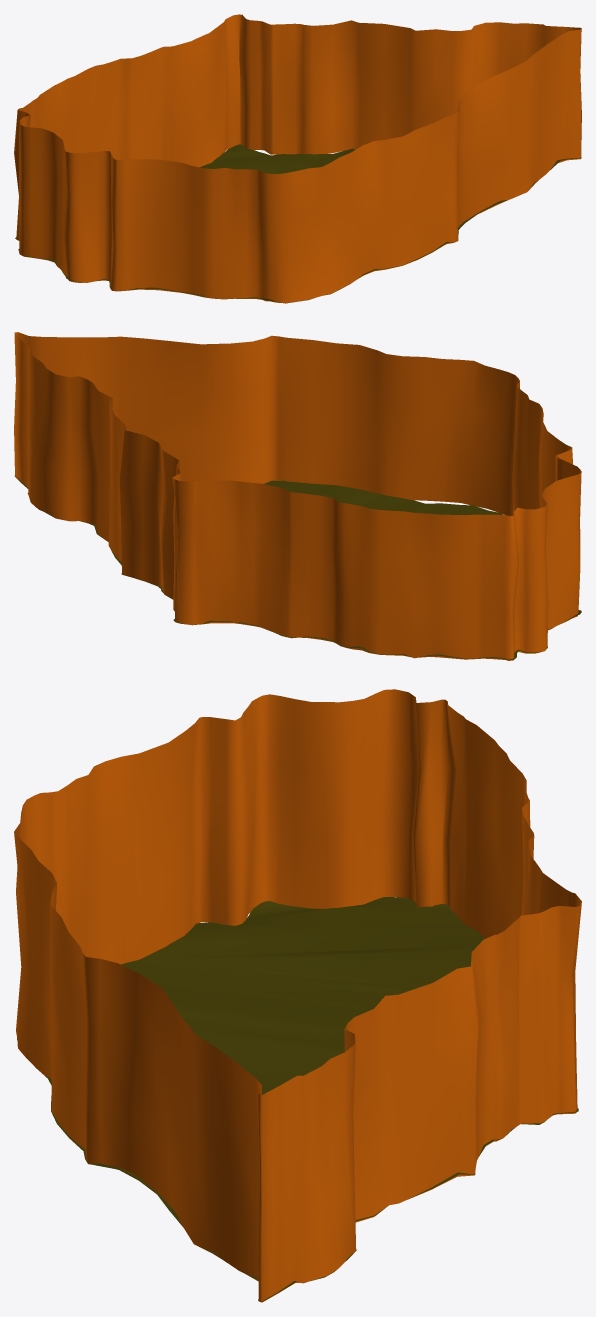
File: Piso_parede_area_verde 1.fbx
3 views of the same model, one above another, from view 1: azimuth 30°, elevation 25°; view 2: azimuth 150°, elevation 25°; view 3: azimuth 270°, elevation 25° (orthographic). The views are drawn at different scales.
Parts seen in each view (by area): view 1: Parede_areaVerde, Piso; view 2: Parede_areaVerde, Piso; view 3: Parede_areaVerde, Piso.
Boxes of the visible parts, x1,y1,x2,y2 form: Parede_areaVerde: (14, 14, 581, 303); Piso: (15, 144, 581, 303); Parede_areaVerde: (14, 332, 581, 660); Piso: (14, 475, 581, 660); Parede_areaVerde: (14, 689, 581, 1302); Piso: (17, 897, 578, 1301).
Bounding box in the file's own units: 24422 × 5933 × 14425.
